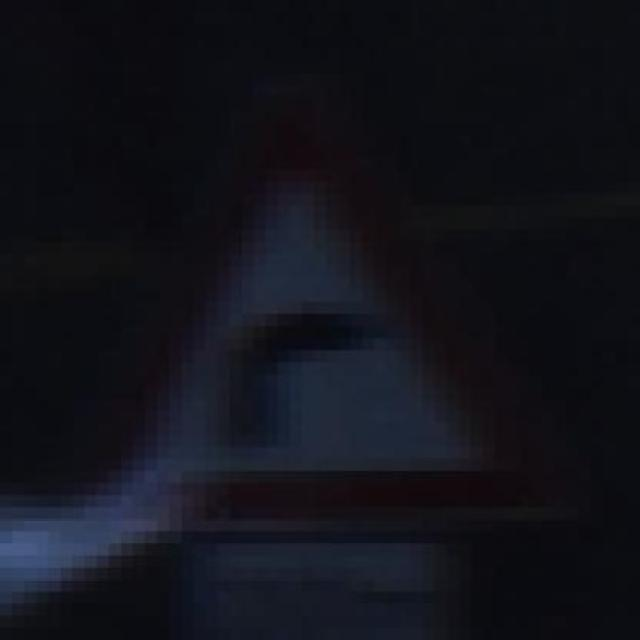Dangerous Rright Curve Ahead: (109, 109, 568, 556)
